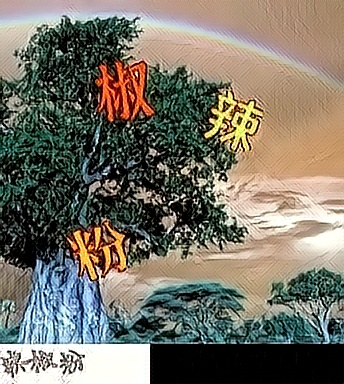B7DB: (68, 220, 130, 284)
BDB7: (94, 59, 156, 123)
C0B1: (203, 89, 265, 153)
